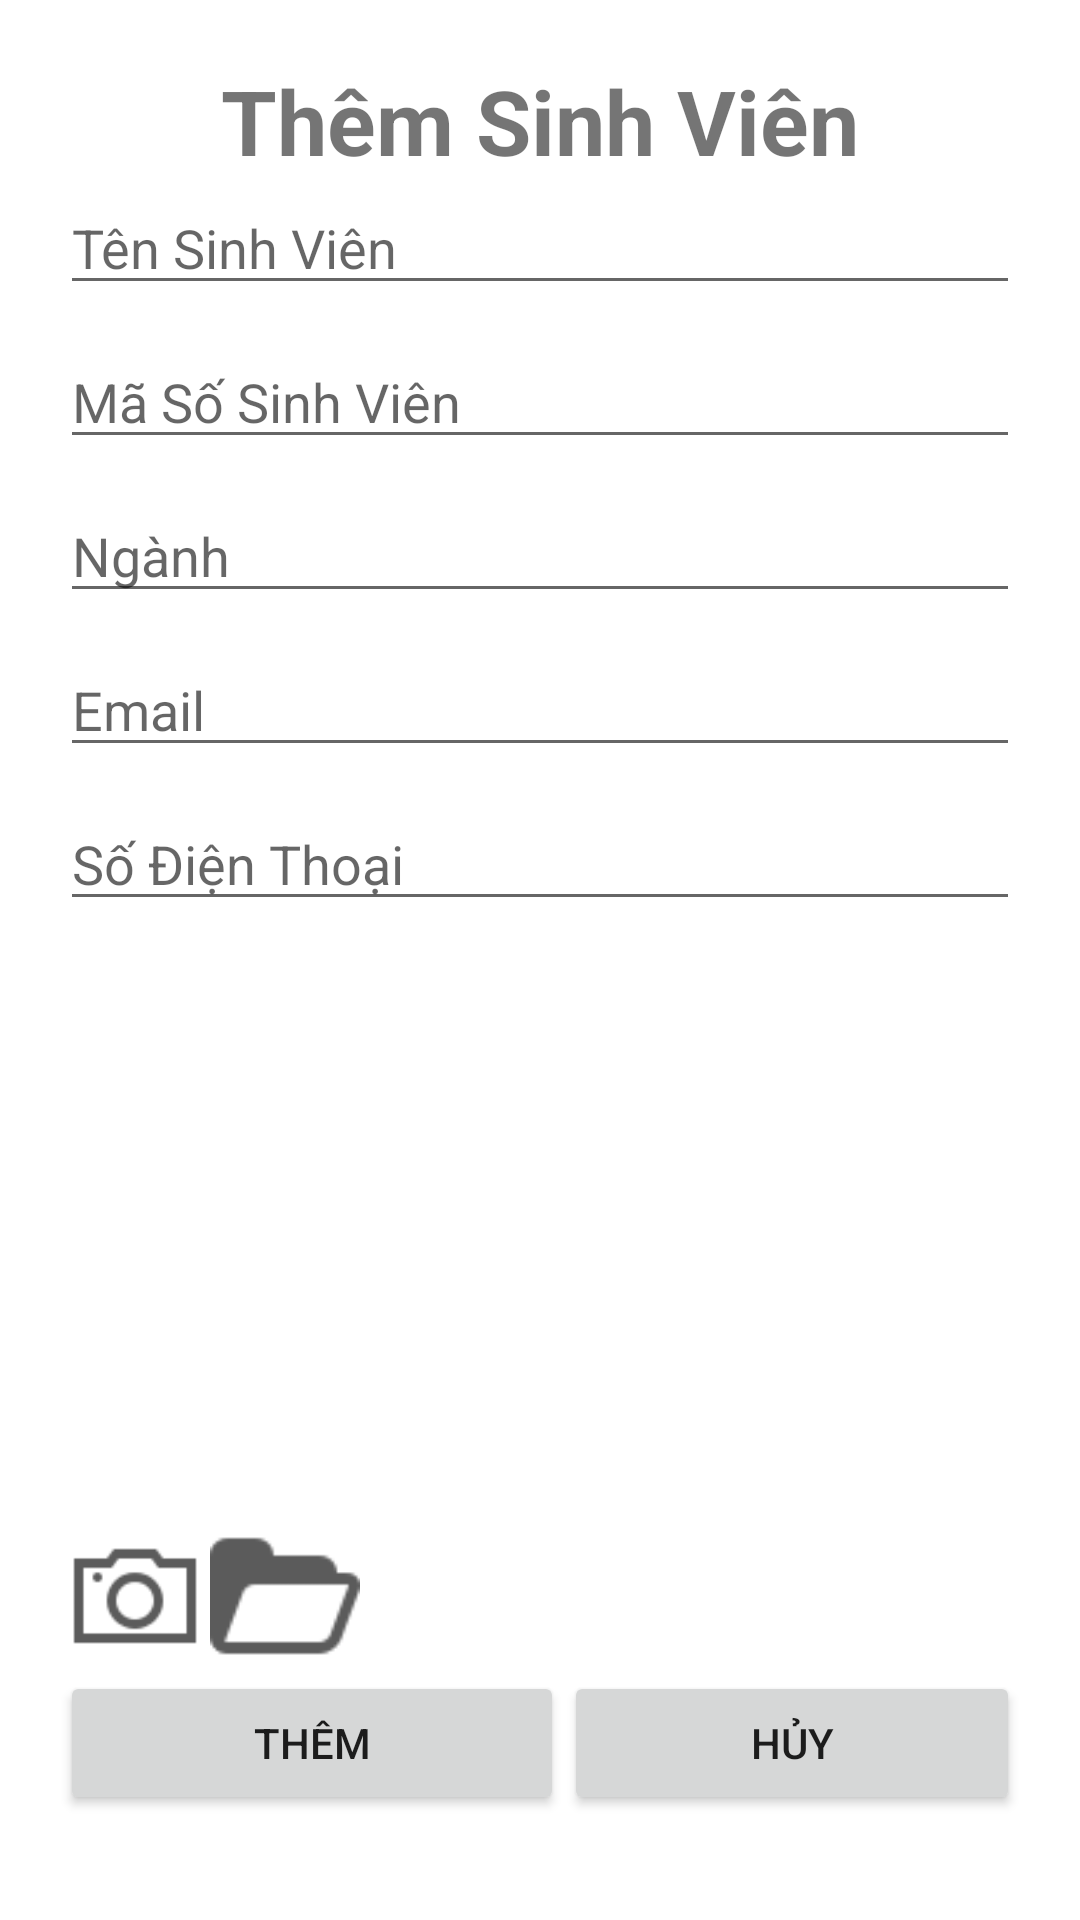

Icon click points for this 1080 x 1920 phone screenshot, format (x,y):
cam: (135,1596)
folde: (285,1596)
